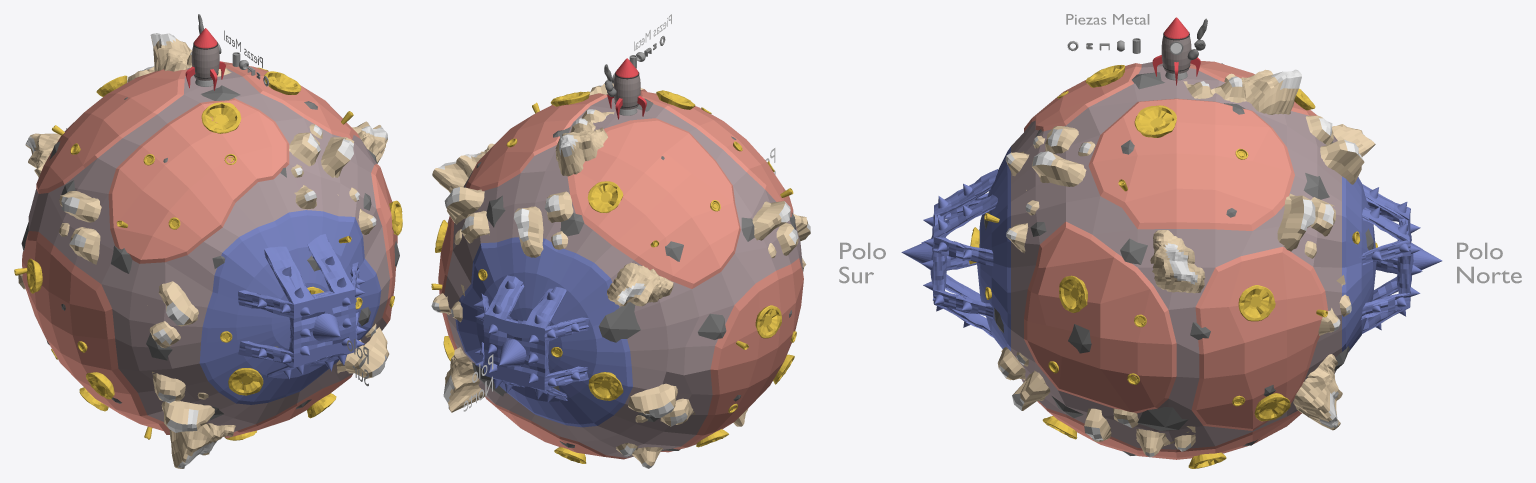
File: 001_ Planet.fbx
3 views of the same model, side by side, from view 1: azimuth 30°, elevation 25°; view 2: azimuth 150°, elevation 25°; view 3: azimuth 270°, elevation 25° (orthographic). The views are drawn at different scales.
Visible parts, largest first — view 1: Planeta 2, Cone.028, Planeta 1.001, Mont 2.009, Mont 2.007, Mont 2.001, Mont 2.005, Mont 3.005, Mont 2.003, Cylinder, Mont 3.001, Heiser 3.005 (+8 smaller); view 2: Planeta 2, Cone.005, Planeta 1.001, Mont 2.006, Mont 3.003, Mont 2.004, Mont 2.002, Mont 3.001, Mont 2.007, Mont 3.004, Cylinder, Mont 3.002 (+7 smaller); view 3: Planeta 2, Cone.028, Cone.005, Planeta 1.001, Mont 3.002, Mont 2.002, Mont 2.001, Mont 3.004, Mont 3.001, Mont 2.006, Mont 2.003, Cylinder (+8 smaller).
Boxes of the visible parts, x1,y1,x2,y2 form: Planeta 2: (22, 61, 397, 438); Cone.028: (238, 234, 366, 379); Planeta 1.001: (21, 85, 399, 420); Mont 2.009: (152, 371, 214, 432); Mont 2.007: (59, 191, 101, 264); Mont 2.001: (289, 124, 354, 195); Mont 2.005: (147, 281, 198, 348); Mont 3.005: (169, 423, 235, 468); Mont 2.003: (336, 323, 389, 378); Cylinder: (191, 28, 219, 86); Mont 3.001: (150, 33, 191, 71); Heiser 3.005: (201, 102, 241, 133); Planeta 2: (438, 89, 803, 459); Cone.005: (473, 275, 589, 402); Planeta 1.001: (472, 98, 795, 450); Mont 2.006: (513, 191, 573, 257); Mont 3.003: (607, 262, 673, 306); Mont 2.004: (628, 383, 695, 426); Mont 2.002: (444, 187, 489, 244); Mont 3.001: (555, 127, 607, 176); Mont 2.007: (752, 201, 798, 258); Mont 3.004: (443, 347, 485, 412); Cylinder: (613, 58, 640, 115); Mont 3.002: (432, 143, 494, 192); Planeta 2: (977, 61, 1376, 459); Cone.028: (901, 169, 997, 338); Cone.005: (1359, 184, 1442, 333); Planeta 1.001: (984, 63, 1373, 455); Mont 3.002: (1150, 230, 1205, 293); Mont 2.002: (1277, 193, 1335, 258); Mont 2.001: (1026, 126, 1095, 190); Mont 3.004: (1293, 354, 1342, 430); Mont 3.001: (1224, 69, 1301, 114); Mont 2.006: (1305, 115, 1364, 184); Mont 2.003: (997, 347, 1050, 410); Cylinder: (1161, 17, 1191, 80).
Size of the model in its own units: 10942 by 11971 by 17146.
